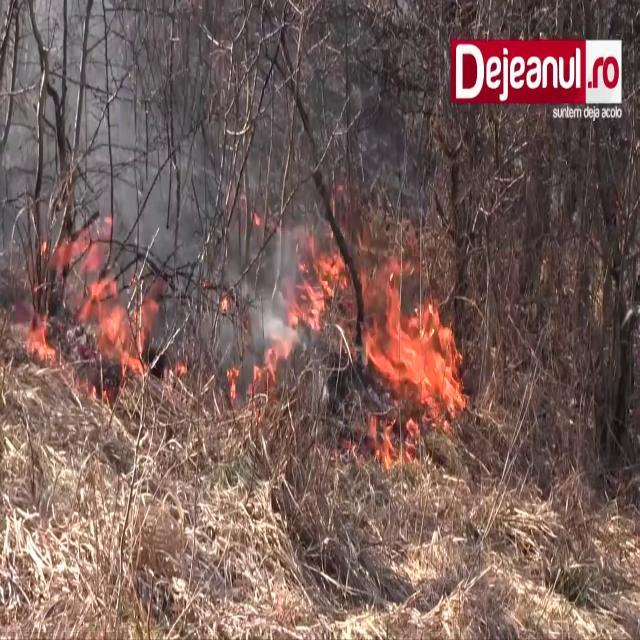Fire: (281, 206, 467, 436), (19, 210, 146, 383)
